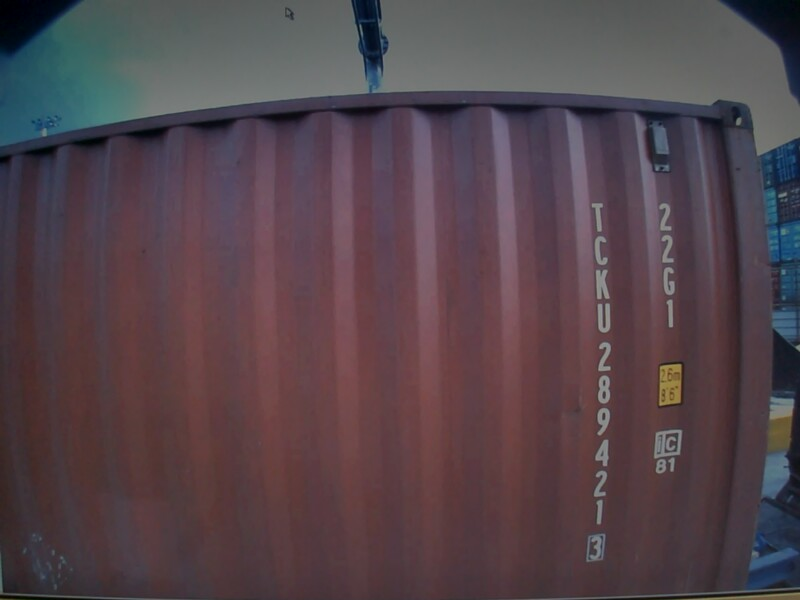container_no_door: (67, 115, 748, 584)
